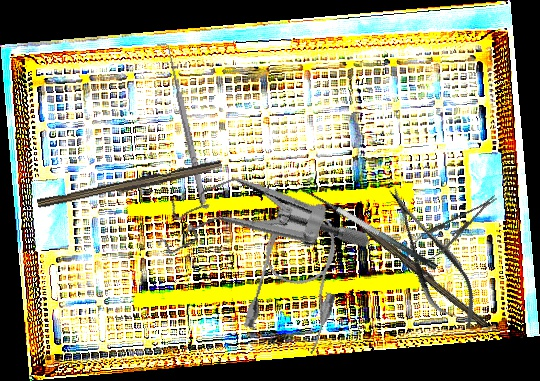Cannula: (241, 203, 355, 356)
Hook Surgical: (156, 39, 210, 208)
Micro Scissor: (373, 176, 491, 341)
Needle Holder: (395, 186, 505, 276)
Scalpel Handle: (358, 221, 491, 329), (36, 157, 224, 214)
Spatula Surgical: (292, 179, 439, 283)
Speculum: (143, 134, 372, 322)
